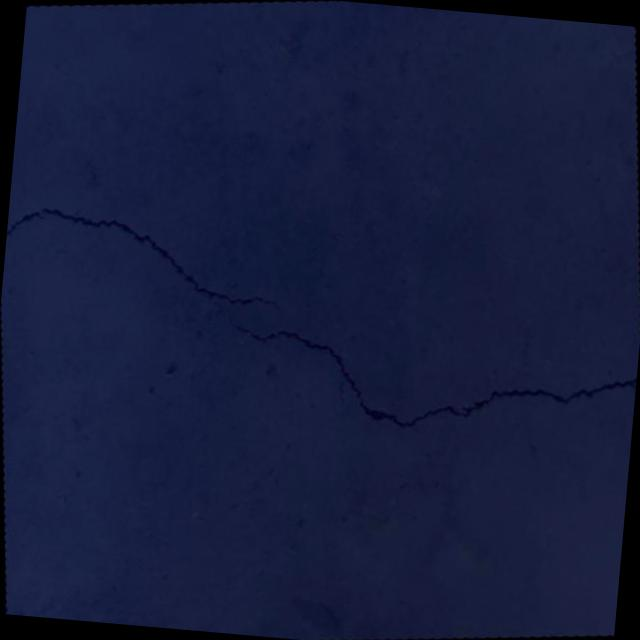crack: (0, 140, 640, 489)
